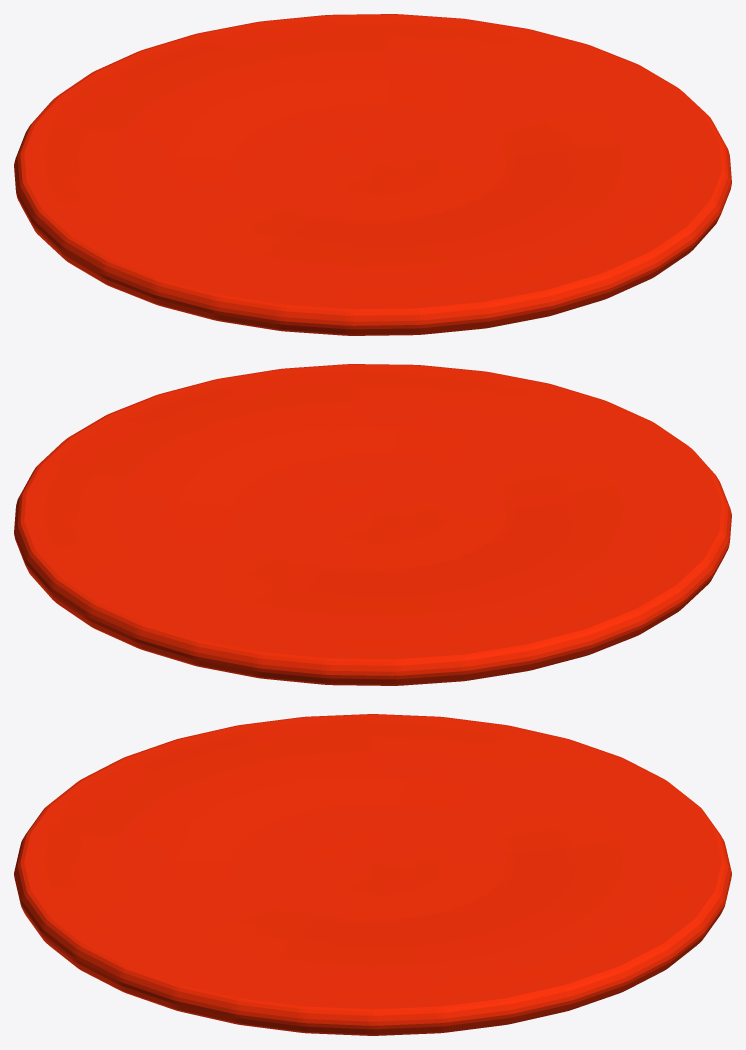
The model's file is HitboxRedFullCircle.fbx.
3 views of the same model, one above another, from view 1: azimuth 30°, elevation 25°; view 2: azimuth 150°, elevation 25°; view 3: azimuth 270°, elevation 25° (orthographic).
Visible parts, largest first — view 1: Sphere; view 2: Sphere; view 3: Sphere.
Boxes of the visible parts, x1,y1,x2,y2 form: Sphere: [14, 14, 731, 335]; Sphere: [14, 364, 731, 685]; Sphere: [14, 714, 731, 1035].
Size of the model in its own units: 199 by 8.28 by 199.
